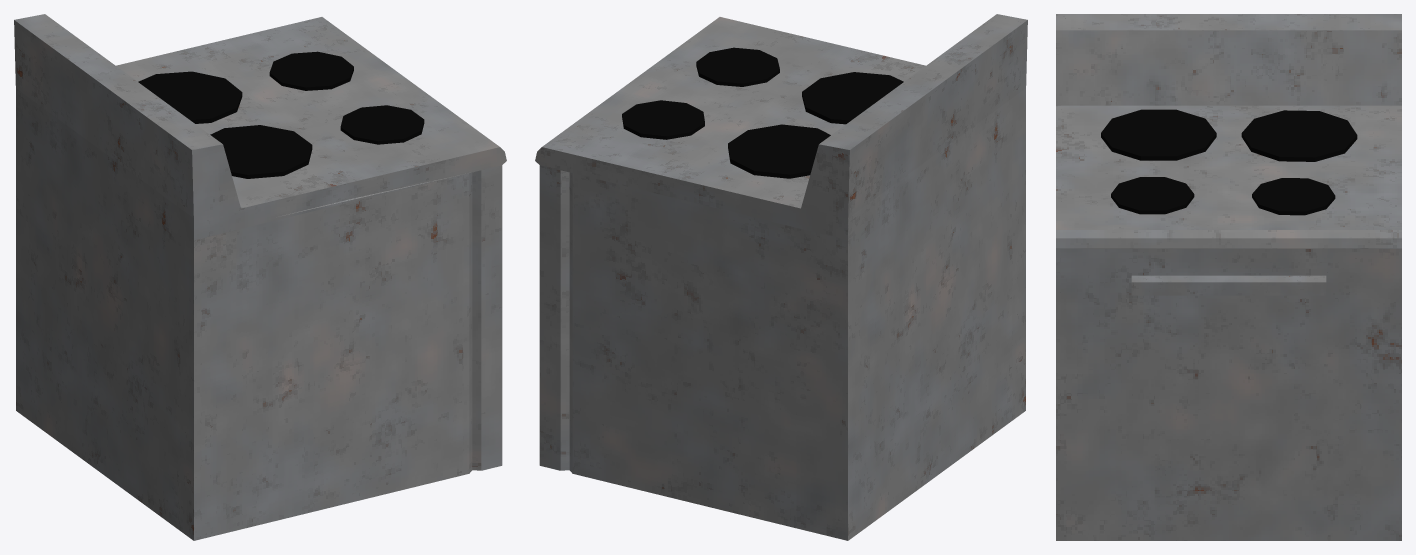
Rendered from oven_stove.glb.
3 renders of one model, left to right at view 1: azimuth 30°, elevation 25°; view 2: azimuth 150°, elevation 25°; view 3: azimuth 270°, elevation 25°, orthographic. The views are drawn at different scales.
Parts seen in each view (by area): view 1: Cube, Cylinder, Cylinder.002, Cylinder.001, Cylinder.003; view 2: Cube, Cylinder.002, Cylinder, Cylinder.003, Cylinder.001; view 3: Cube, Cylinder, Cylinder.002, Cylinder.003, Cylinder.001.
Part boxes in pixels (bbox=[...]): Cube: bbox=[14, 14, 506, 540]; Cylinder: bbox=[210, 125, 312, 178]; Cylinder.002: bbox=[138, 71, 242, 123]; Cylinder.001: bbox=[269, 51, 353, 90]; Cylinder.003: bbox=[340, 105, 424, 144]; Cube: bbox=[535, 14, 1027, 540]; Cylinder.002: bbox=[728, 124, 830, 178]; Cylinder: bbox=[802, 72, 903, 124]; Cylinder.003: bbox=[696, 47, 779, 86]; Cylinder.001: bbox=[622, 100, 704, 139]; Cube: bbox=[1056, 14, 1401, 540]; Cylinder: bbox=[1101, 109, 1216, 160]; Cylinder.002: bbox=[1241, 110, 1357, 161]; Cylinder.003: bbox=[1111, 177, 1194, 214]; Cylinder.001: bbox=[1252, 178, 1335, 215].
Size of the model in its own units: 3.14 by 3.62 by 2.99.
Materials: 2 (1 with a texture image).
